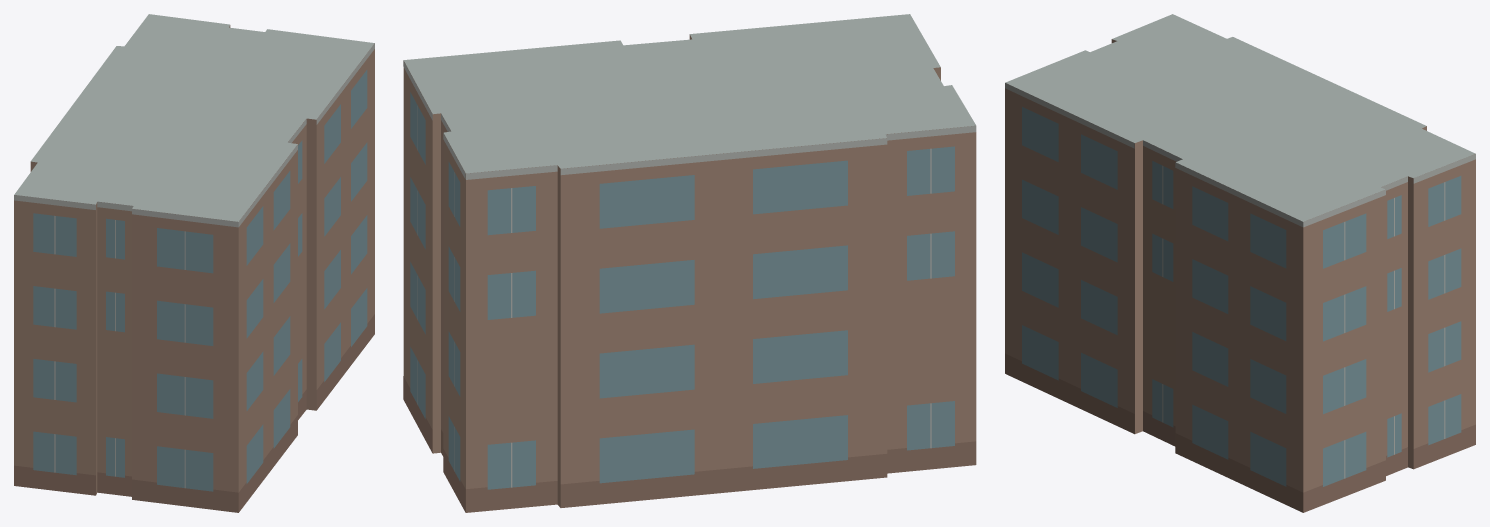
File: survey-upis-32830406.glb
The picture shows the model from 3 angles, left to right: view 1: azimuth 30°, elevation 25°; view 2: azimuth 150°, elevation 25°; view 3: azimuth 270°, elevation 25°; orthographic projection. The views are drawn at different scales.
Visible parts, largest first — view 1: survey-upis-32830406.tmp; view 2: survey-upis-32830406.tmp; view 3: survey-upis-32830406.tmp.
Boxes of the visible parts, x1,y1,x2,y2 form: survey-upis-32830406.tmp: (14, 14, 374, 512); survey-upis-32830406.tmp: (403, 14, 976, 512); survey-upis-32830406.tmp: (1005, 14, 1475, 512).
Size of the model in its own units: 19.46 by 12.7 by 18.63.
